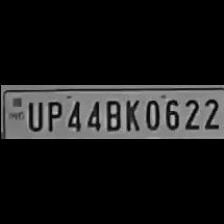0: (142, 97, 160, 131)
2: (200, 96, 220, 130), (182, 96, 200, 130)
4: (82, 96, 100, 132), (63, 98, 81, 132)
6: (161, 96, 179, 130)
B: (103, 96, 121, 132)
K: (122, 97, 140, 133)
P: (43, 98, 61, 132)
U: (24, 99, 42, 131)
